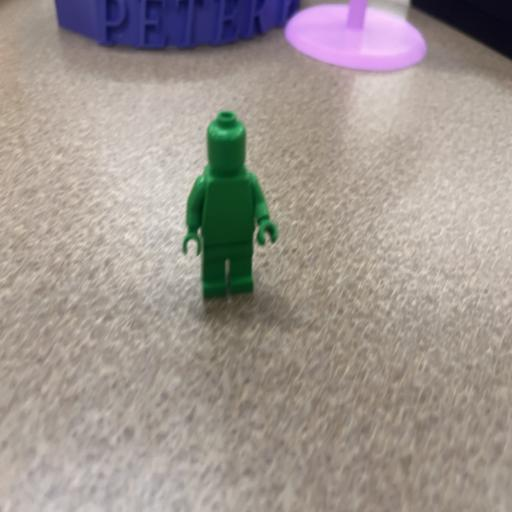Lego-Minifig: (183, 111, 278, 298)
